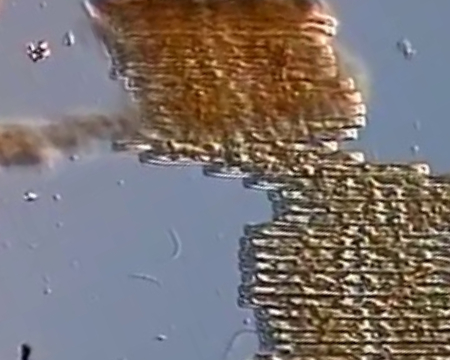fil: (139, 112, 371, 127), (101, 31, 329, 46), (125, 77, 359, 90), (112, 140, 338, 153), (135, 127, 361, 140), (202, 162, 428, 175), (243, 175, 450, 189), (131, 90, 364, 102), (135, 102, 368, 113), (108, 52, 341, 63), (237, 248, 449, 260), (237, 261, 449, 273), (237, 297, 449, 309), (240, 236, 450, 248), (242, 223, 450, 235), (109, 68, 343, 78), (271, 212, 450, 225), (138, 153, 367, 163), (268, 189, 450, 201), (257, 332, 450, 343), (257, 345, 450, 356), (236, 285, 448, 295), (242, 272, 450, 282), (270, 203, 450, 213), (251, 308, 450, 317), (254, 318, 449, 327)
